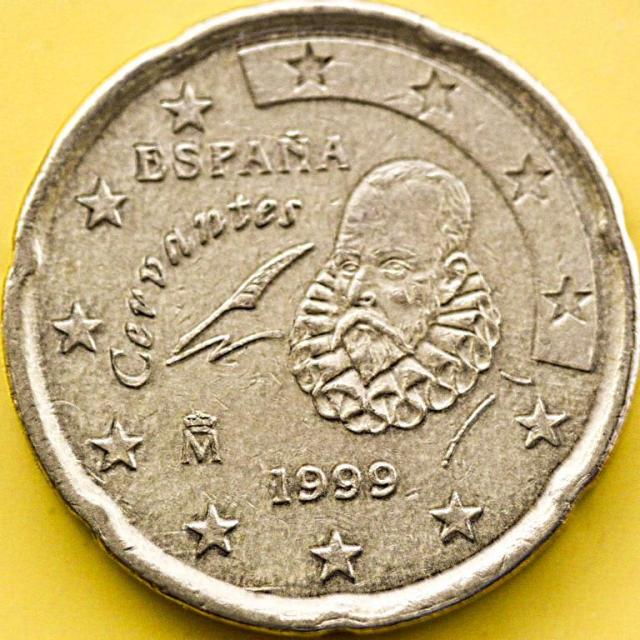Coin: (0, 0, 640, 635)
